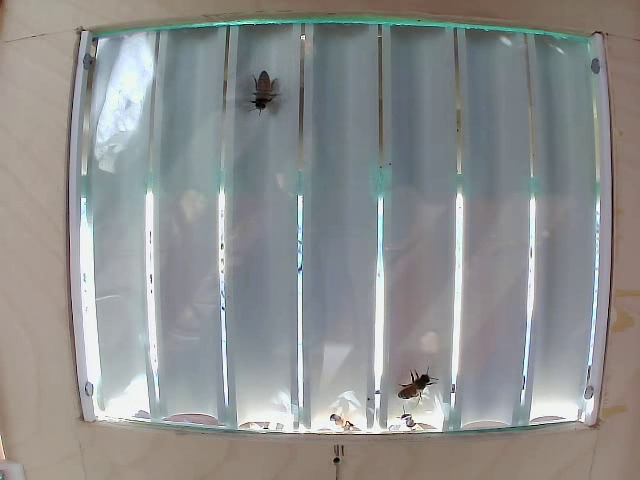bee: (238, 64, 288, 115), (407, 363, 442, 404)
